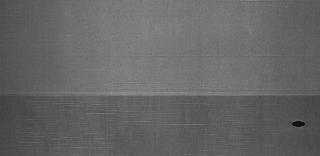punching hole: (290, 119, 306, 128)
welding line: (3, 89, 316, 101)
